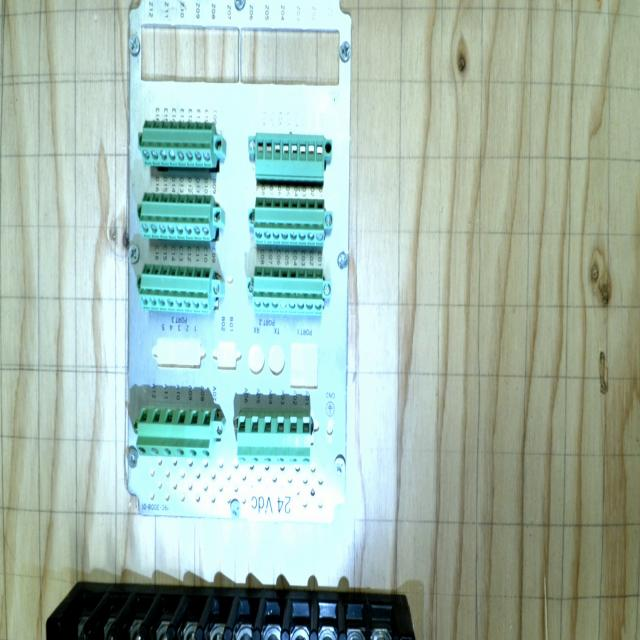Terminal_1: (136, 408, 212, 459), (236, 414, 311, 465)
Terminal_2: (138, 264, 213, 314), (140, 120, 214, 168), (253, 197, 325, 246), (252, 266, 324, 315), (139, 193, 212, 241)
